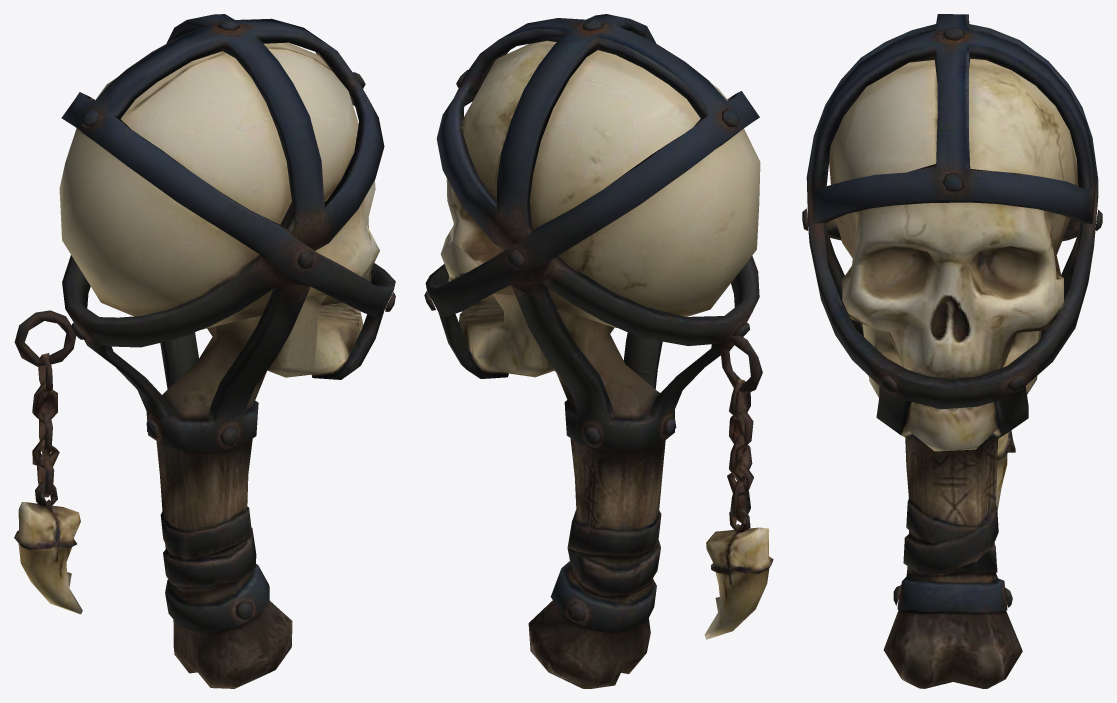
The model's file is necro_wpn_skull_focus.glb.
3 views of the same model, side by side, from view 1: azimuth 30°, elevation 25°; view 2: azimuth 150°, elevation 25°; view 3: azimuth 270°, elevation 25° (orthographic).
Visible parts, largest first — view 1: tripo_node_65d7a7fb-1af0-43c0-869e-9629ad5eaf8e; view 2: tripo_node_65d7a7fb-1af0-43c0-869e-9629ad5eaf8e; view 3: tripo_node_65d7a7fb-1af0-43c0-869e-9629ad5eaf8e.
Boxes of the visible parts, x1,y1,x2,y2 form: tripo_node_65d7a7fb-1af0-43c0-869e-9629ad5eaf8e: (14,14,395,688); tripo_node_65d7a7fb-1af0-43c0-869e-9629ad5eaf8e: (424,14,773,688); tripo_node_65d7a7fb-1af0-43c0-869e-9629ad5eaf8e: (802,14,1102,688).
Size of the model in its own units: 0.5527 by 0.998 by 0.4121.
1 material, 1 textured.
